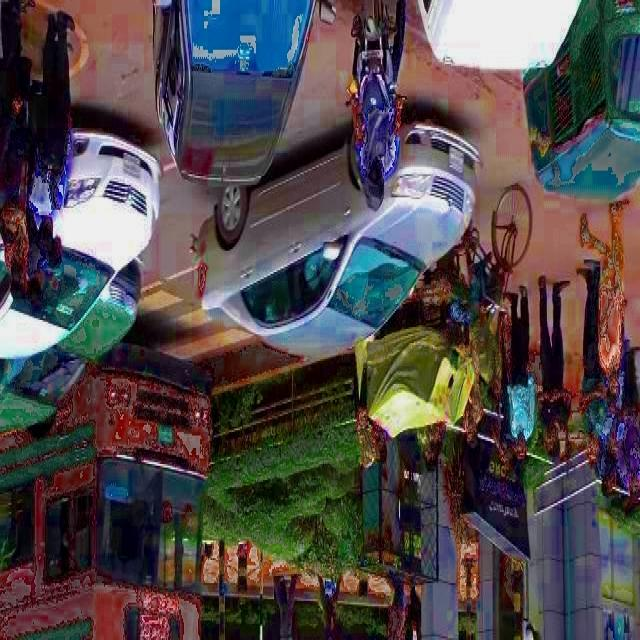green: (0, 262, 141, 428)
silver: (198, 111, 482, 357)
white: (0, 127, 166, 360)
